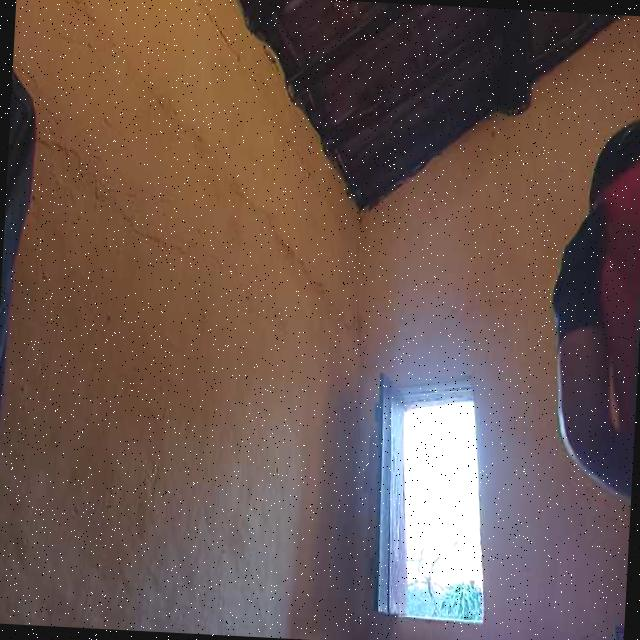capacete: (589, 109, 640, 212)
colete: (587, 175, 640, 444)
pessoa: (550, 115, 640, 527)
